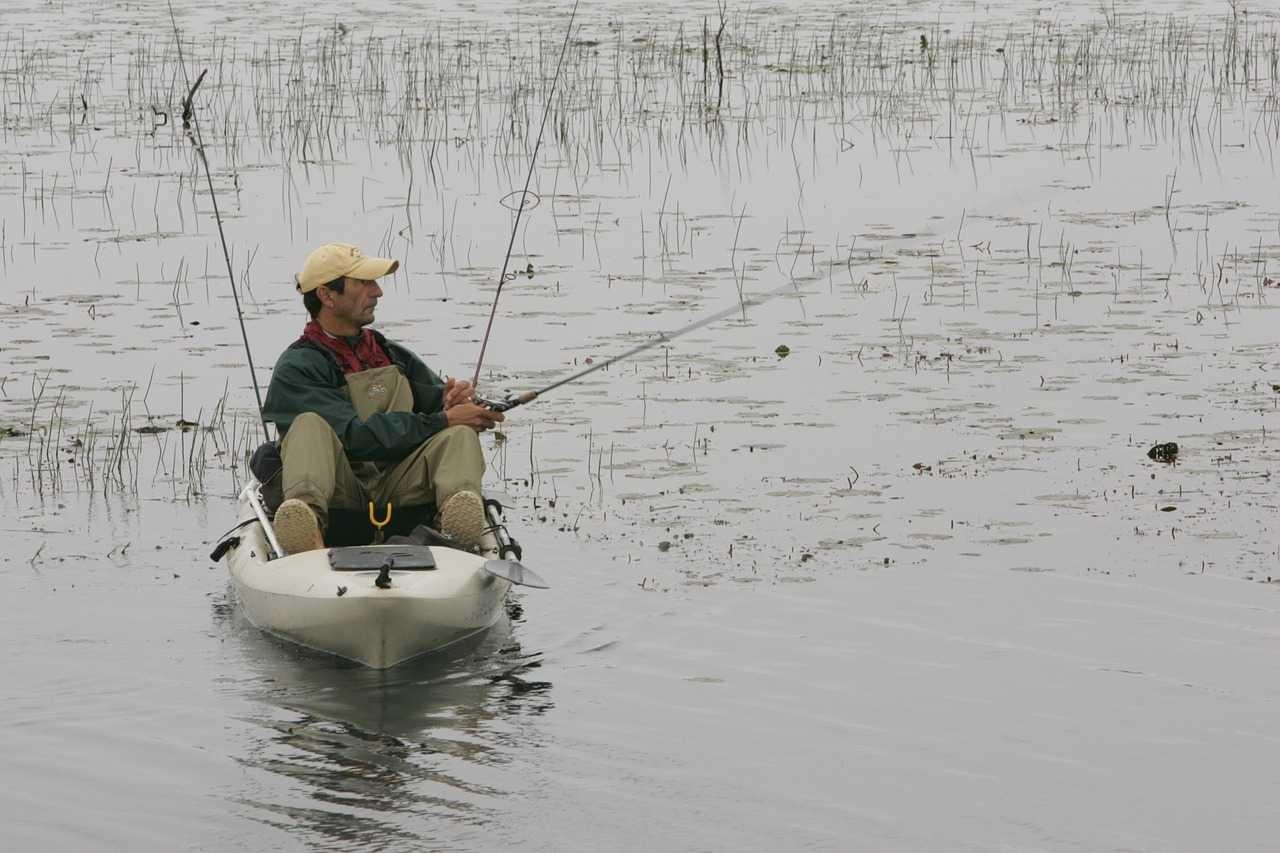kayak: (210, 484, 533, 673)
